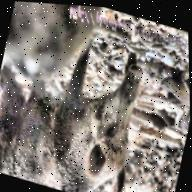boar: (0, 32, 182, 192)
